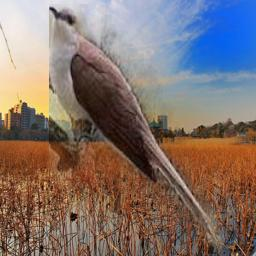Cuckoo: (49, 4, 225, 253)
